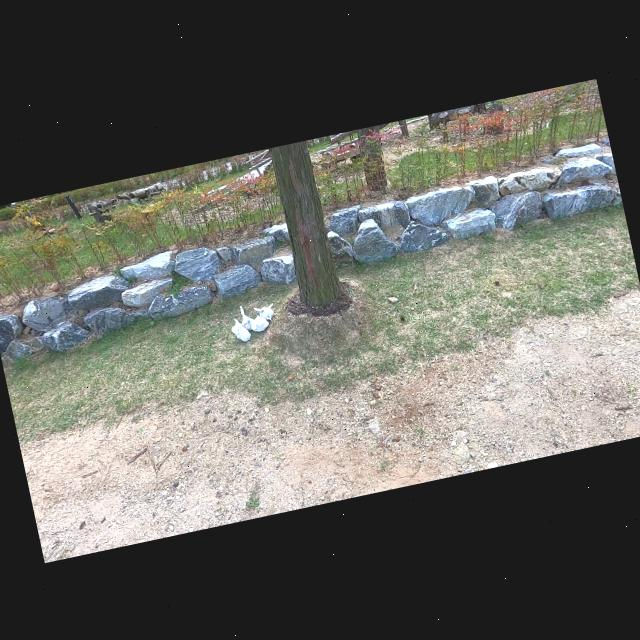trash: (235, 303, 257, 332), (254, 302, 278, 321), (248, 312, 270, 332), (232, 318, 250, 341), (229, 317, 244, 338)
